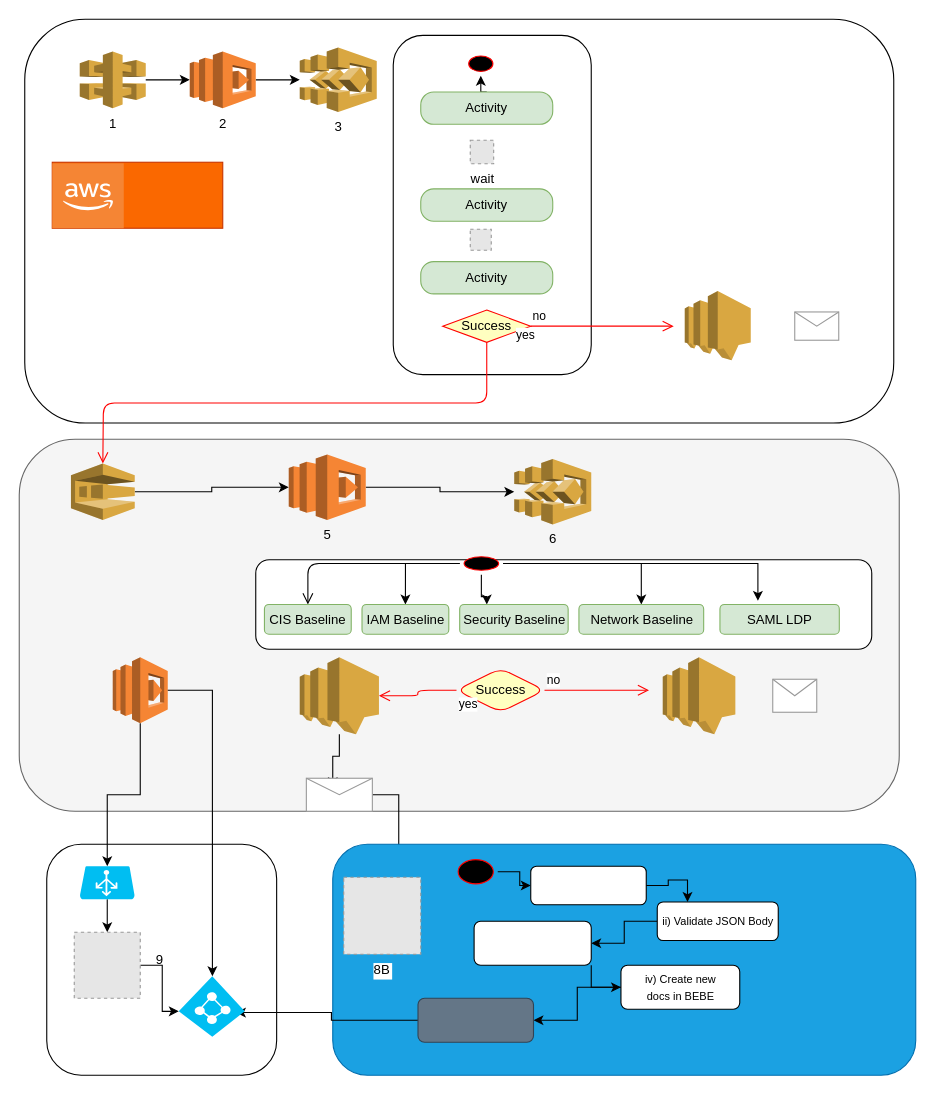
The diagram is 935 pixels wide and 1095 high, and some of its shapes have lost their labels. Grey dashed boxes stand in for pictures. Here are the shapes that lost their labels. From the top down, the centre of each, then its label:
the point at 717,325: 4B
the point at 102,491: 4A
the point at 140,689: 8 A
the point at 339,695: 7 A
the point at 698,695: 7 B
the point at 588,885: I) Validate Mime Headers
the point at 532,942: iii) Create mail group in names.nsf
the point at 475,1019: v) Create AD Group
